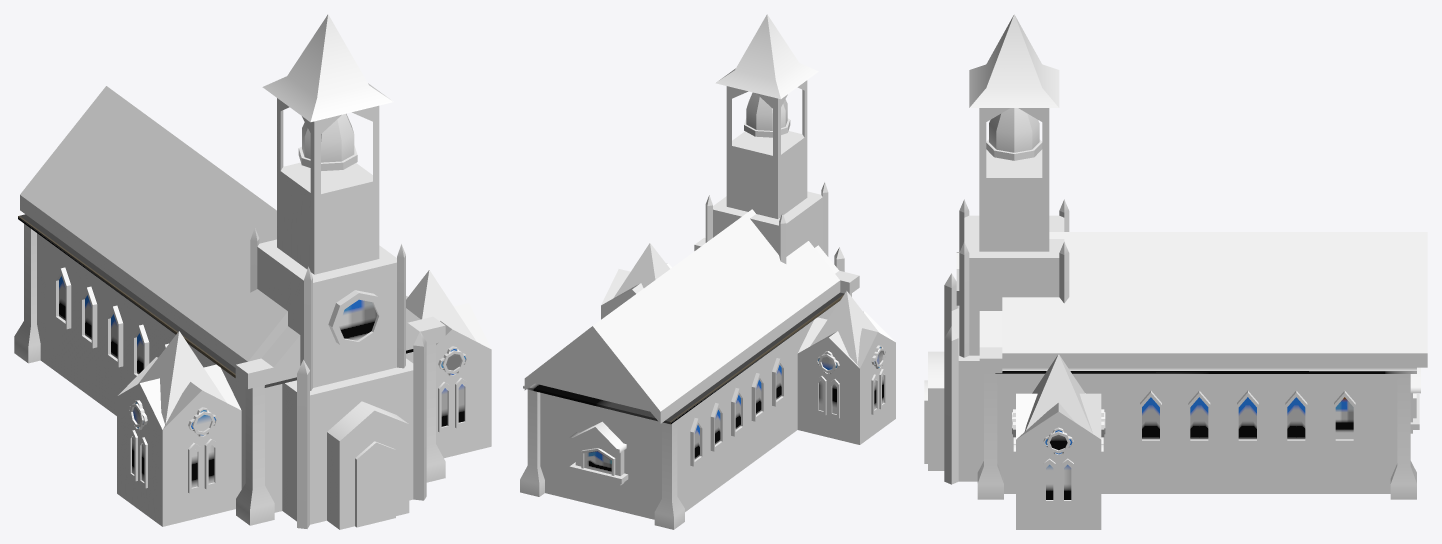
File: ChurchV2.fbx
3 renders of one model, left to right at view 1: azimuth 30°, elevation 25°; view 2: azimuth 150°, elevation 25°; view 3: azimuth 270°, elevation 25°, orthographic. The views are drawn at different scales.
Visible parts, largest first — view 1: polySurface1259; view 2: polySurface1259; view 3: polySurface1259.
Part boxes in pixels (box(x1,y1,x2,y2)): polySurface1259: box(14, 14, 491, 529); polySurface1259: box(520, 14, 895, 529); polySurface1259: box(924, 14, 1427, 529).
Bounding box in the file's own units: 5.18 × 6.96 × 7.19.
